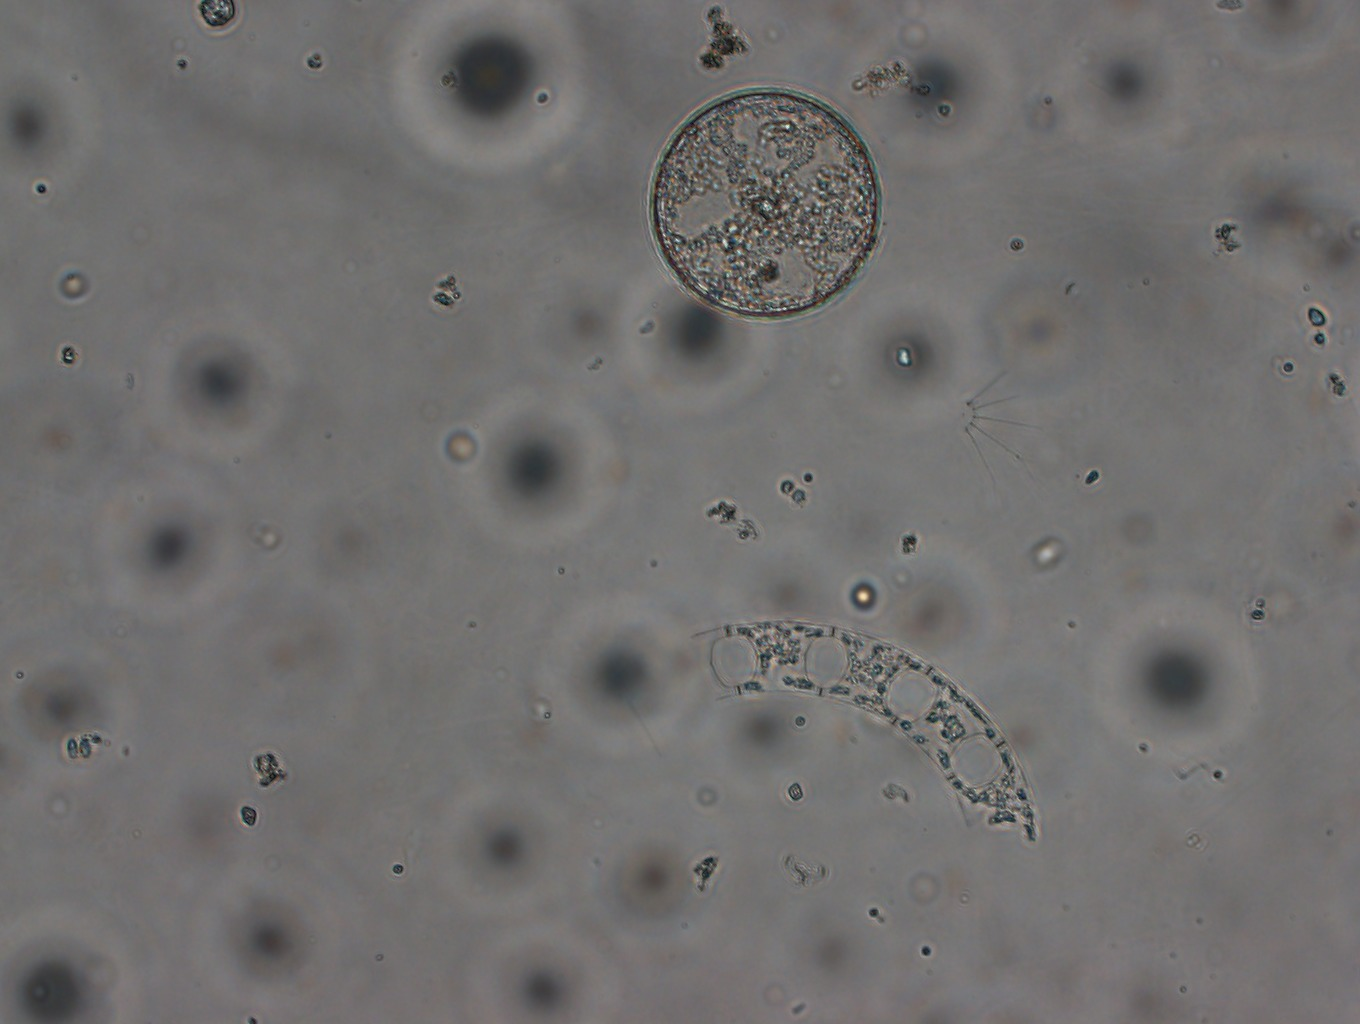coscinodiscus: (645, 84, 885, 323)
eucampia: (690, 620, 1037, 843)
